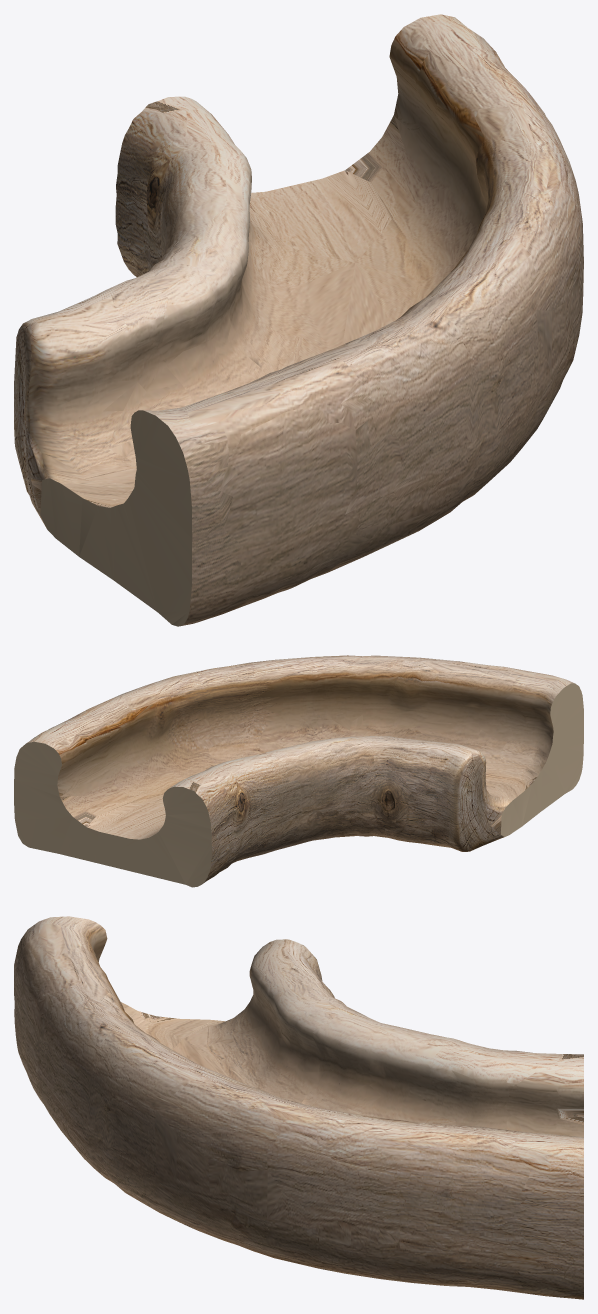
Rendered from channel-curve-v1.glb.
The picture shows the model from 3 angles, top to bottom: view 1: azimuth 30°, elevation 25°; view 2: azimuth 150°, elevation 25°; view 3: azimuth 270°, elevation 25°; orthographic projection. The views are drawn at different scales.
Parts seen in each view (by area): view 1: tripo_node_9c778690-1198-4274-a916-020b04e5bdcd; view 2: tripo_node_9c778690-1198-4274-a916-020b04e5bdcd; view 3: tripo_node_9c778690-1198-4274-a916-020b04e5bdcd.
Boxes of the visible parts, x1,y1,x2,y2 form: tripo_node_9c778690-1198-4274-a916-020b04e5bdcd: (14, 14, 583, 626); tripo_node_9c778690-1198-4274-a916-020b04e5bdcd: (14, 655, 583, 887); tripo_node_9c778690-1198-4274-a916-020b04e5bdcd: (14, 916, 583, 1299).
Bounding box in the file's own units: 0.6863 × 0.2001 × 0.6778.
Materials: 2 (1 with a texture image).
